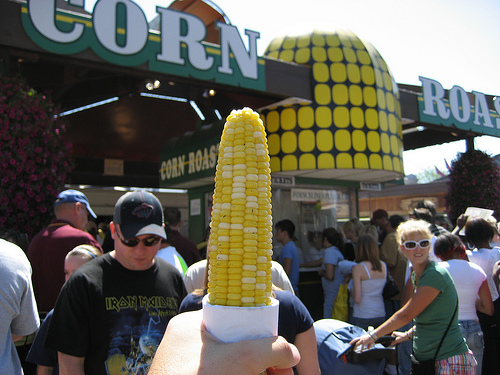corn: (205, 105, 274, 309)
